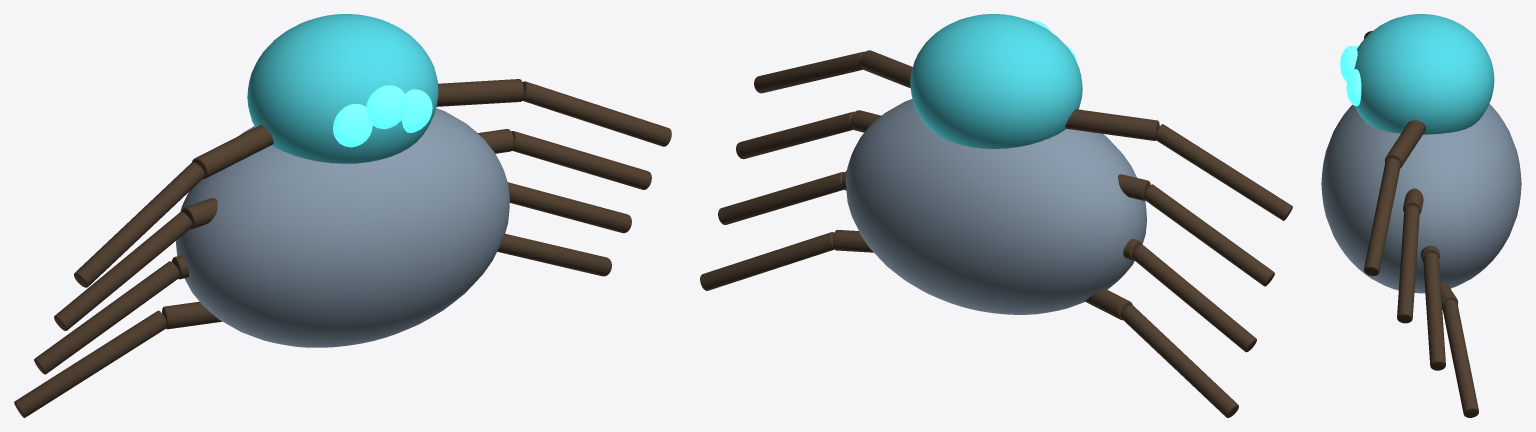
Rendered from arachnid_v6.glb.
3 views of the same model, side by side, from view 1: azimuth 30°, elevation 25°; view 2: azimuth 150°, elevation 25°; view 3: azimuth 270°, elevation 25° (orthographic). The views are drawn at different scales.
Parts seen in each view (by area): view 1: CRAB_SPIDER_BODY_PRIMARY, CRAB_SPIDER_HEAD_ACCENT, ARACHNID_LOWER_LEG_SECONDARY.006, ARACHNID_LOWER_LEG_SECONDARY.004, ARACHNID_LOWER_LEG_SECONDARY.002, ARACHNID_LOWER_LEG_SECONDARY, ARACHNID_LOWER_LEG_SECONDARY.001, ARACHNID_LOWER_LEG_SECONDARY.003, ARACHNID_LOWER_LEG_SECONDARY.005, ARACHNID_LOWER_LEG_SECONDARY.007, ARACHNID_UPPER_LEG_SECONDARY.001, ARACHNID_UPPER_LEG_SECONDARY (+6 smaller); view 2: CRAB_SPIDER_BODY_PRIMARY, CRAB_SPIDER_HEAD_ACCENT, ARACHNID_LOWER_LEG_SECONDARY, ARACHNID_LOWER_LEG_SECONDARY.002, ARACHNID_LOWER_LEG_SECONDARY.004, ARACHNID_LOWER_LEG_SECONDARY.006, ARACHNID_LOWER_LEG_SECONDARY.007, ARACHNID_LOWER_LEG_SECONDARY.005, ARACHNID_LOWER_LEG_SECONDARY.003, ARACHNID_LOWER_LEG_SECONDARY.001, ARACHNID_UPPER_LEG_SECONDARY, ARACHNID_UPPER_LEG_SECONDARY.001 (+3 smaller); view 3: CRAB_SPIDER_BODY_PRIMARY, CRAB_SPIDER_HEAD_ACCENT, ARACHNID_LOWER_LEG_SECONDARY.001, ARACHNID_LOWER_LEG_SECONDARY.007, ARACHNID_LOWER_LEG_SECONDARY.003, ARACHNID_LOWER_LEG_SECONDARY.005, ARACHNID_UPPER_LEG_SECONDARY.001, EYE_EMISSIVE.002, EYE_EMISSIVE.001, ARACHNID_UPPER_LEG_SECONDARY.003, ARACHNID_UPPER_LEG_SECONDARY.007.
Part boxes in pixels (<box>): CRAB_SPIDER_BODY_PRIMARY: <box>176,108,509,347</box>; CRAB_SPIDER_HEAD_ACCENT: <box>247,14,438,163</box>; ARACHNID_LOWER_LEG_SECONDARY.006: <box>14,310,166,417</box>; ARACHNID_LOWER_LEG_SECONDARY.004: <box>34,261,179,374</box>; ARACHNID_LOWER_LEG_SECONDARY.002: <box>54,212,192,330</box>; ARACHNID_LOWER_LEG_SECONDARY: <box>74,162,205,287</box>; ARACHNID_LOWER_LEG_SECONDARY.001: <box>522,81,671,146</box>; ARACHNID_LOWER_LEG_SECONDARY.003: <box>511,131,651,189</box>; ARACHNID_LOWER_LEG_SECONDARY.005: <box>507,182,631,233</box>; ARACHNID_LOWER_LEG_SECONDARY.007: <box>497,233,611,276</box>; ARACHNID_UPPER_LEG_SECONDARY.001: <box>436,79,523,106</box>; ARACHNID_UPPER_LEG_SECONDARY: <box>192,125,273,179</box>; CRAB_SPIDER_BODY_PRIMARY: <box>846,99,1146,314</box>; CRAB_SPIDER_HEAD_ACCENT: <box>910,14,1082,148</box>; ARACHNID_LOWER_LEG_SECONDARY: <box>1155,124,1292,220</box>; ARACHNID_LOWER_LEG_SECONDARY.002: <box>1143,184,1274,286</box>; ARACHNID_LOWER_LEG_SECONDARY.004: <box>1132,244,1256,352</box>; ARACHNID_LOWER_LEG_SECONDARY.006: <box>1120,305,1238,417</box>; ARACHNID_LOWER_LEG_SECONDARY.007: <box>700,232,834,290</box>; ARACHNID_LOWER_LEG_SECONDARY.005: <box>718,172,844,224</box>; ARACHNID_LOWER_LEG_SECONDARY.003: <box>736,111,854,159</box>; ARACHNID_LOWER_LEG_SECONDARY.001: <box>754,51,864,93</box>; ARACHNID_UPPER_LEG_SECONDARY: <box>1065,109,1159,140</box>; ARACHNID_UPPER_LEG_SECONDARY.001: <box>860,50,912,88</box>; CRAB_SPIDER_BODY_PRIMARY: <box>1321,104,1521,293</box>; CRAB_SPIDER_HEAD_ACCENT: <box>1354,14,1494,134</box>; ARACHNID_LOWER_LEG_SECONDARY.001: <box>1364,158,1400,276</box>; ARACHNID_LOWER_LEG_SECONDARY.007: <box>1442,300,1478,417</box>; ARACHNID_LOWER_LEG_SECONDARY.003: <box>1397,205,1419,323</box>; ARACHNID_LOWER_LEG_SECONDARY.005: <box>1423,253,1445,370</box>; ARACHNID_UPPER_LEG_SECONDARY.001: <box>1384,120,1425,167</box>; EYE_EMISSIVE.002: <box>1346,69,1361,106</box>; EYE_EMISSIVE.001: <box>1340,46,1357,81</box>; ARACHNID_UPPER_LEG_SECONDARY.003: <box>1403,188,1423,213</box>; ARACHNID_UPPER_LEG_SECONDARY.007: <box>1440,282,1458,309</box>.
Size of the model in its own units: 2.67 by 1.48 by 0.96.
